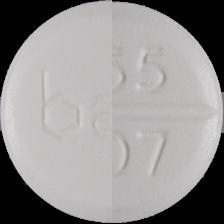69189-0608: (0, 0, 224, 224)
